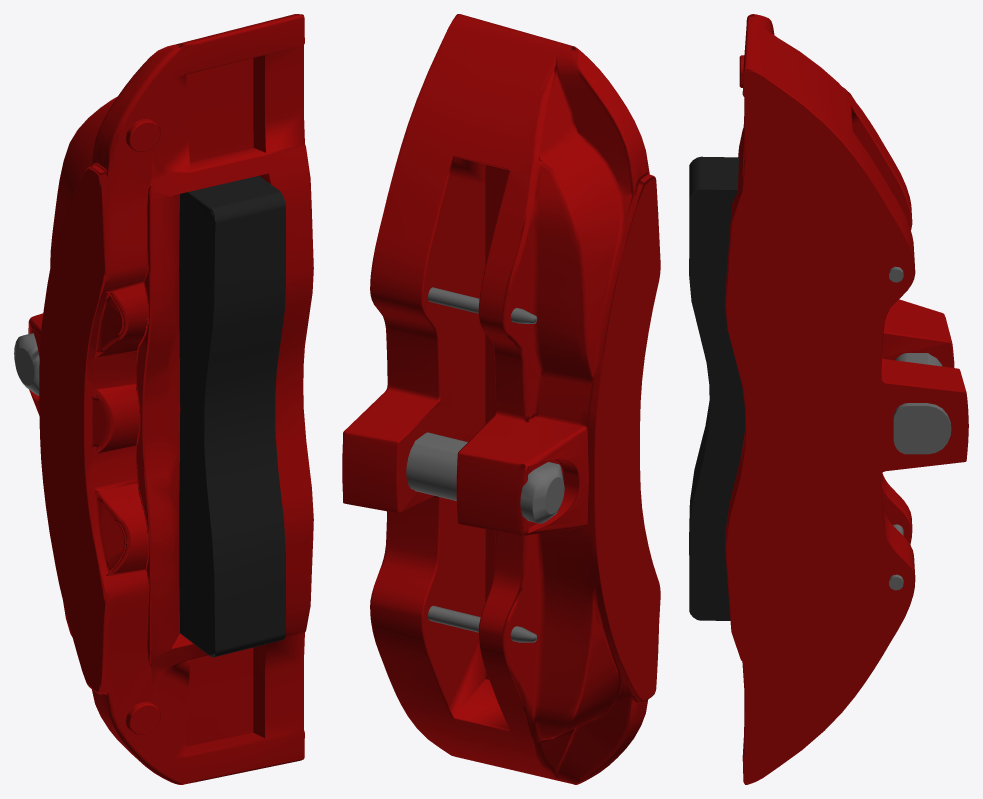
File: WheelBrakeCaliper01.fbx
The picture shows the model from 3 angles, left to right: view 1: azimuth 30°, elevation 25°; view 2: azimuth 150°, elevation 25°; view 3: azimuth 270°, elevation 25°; orthographic projection. The views are drawn at different scales.
Visible parts, largest first — view 1: BrakeCaliper01; view 2: BrakeCaliper01; view 3: BrakeCaliper01.
Part boxes in pixels (left/top/right/bottom): BrakeCaliper01: left=14, top=14, right=313, bottom=784; BrakeCaliper01: left=342, top=14, right=660, bottom=784; BrakeCaliper01: left=689, top=14, right=968, bottom=784.
Size of the model in its own units: 0.0916 by 0.3133 by 0.1109.
